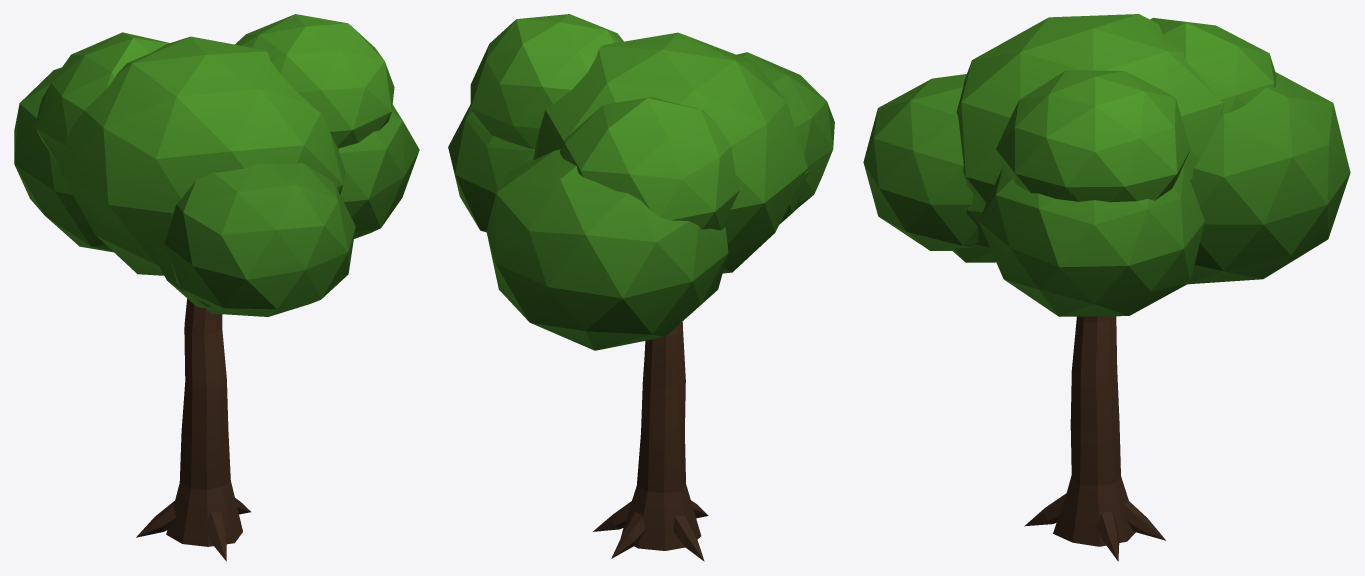
File: tree_oak_01.fbx
The picture shows the model from 3 angles, left to right: view 1: azimuth 30°, elevation 25°; view 2: azimuth 150°, elevation 25°; view 3: azimuth 270°, elevation 25°; orthographic projection. The views are drawn at different scales.
Visible parts, largest first — view 1: tree_oak_01_LOD0; view 2: tree_oak_01_LOD0; view 3: tree_oak_01_LOD0.
Boxes of the visible parts, box(x1,y1,x2,y2) form: tree_oak_01_LOD0: box(14, 14, 419, 561); tree_oak_01_LOD0: box(448, 14, 834, 561); tree_oak_01_LOD0: box(863, 14, 1350, 561).
Size of what is drawn, in the model's own units: 2.73 by 3.93 by 3.42.
Materials: 1 (1 with a texture image).
